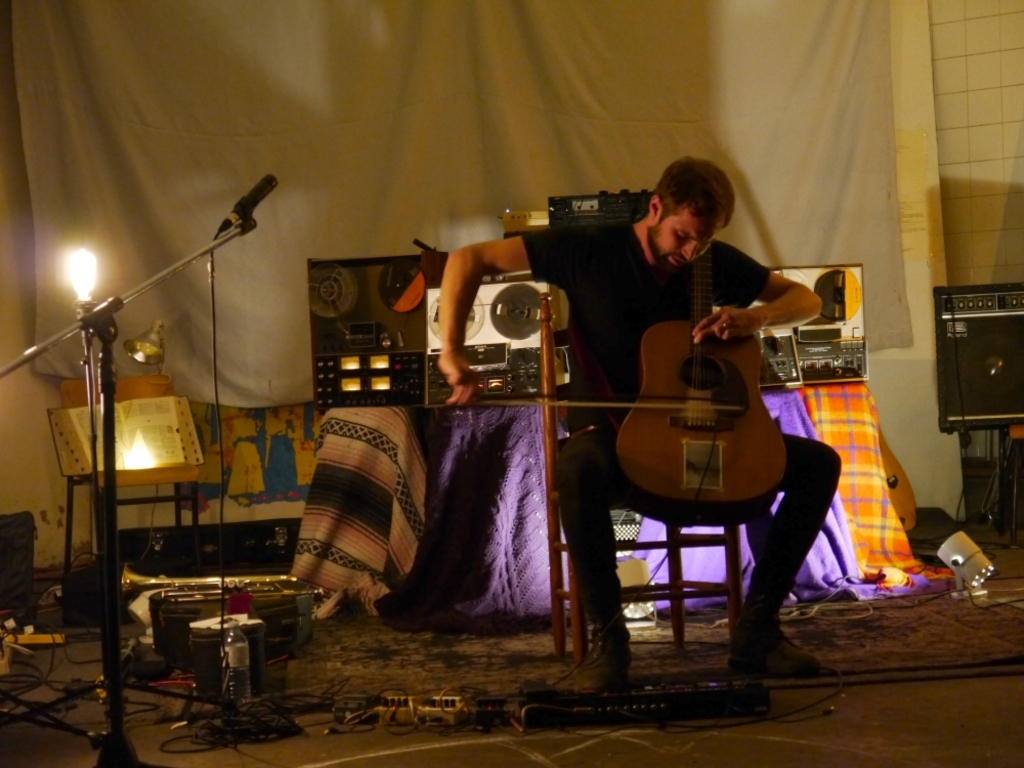Footwear: (744, 575, 809, 694), (574, 628, 633, 698)
